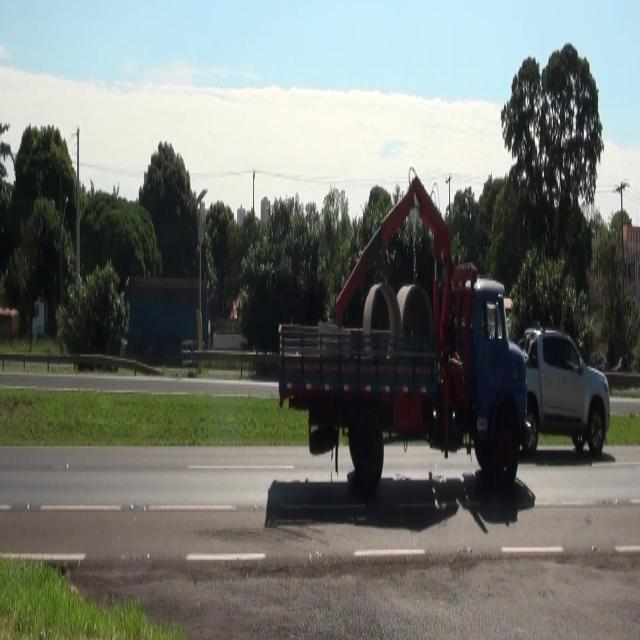-axle: (352, 406, 386, 491), (486, 412, 516, 497)
